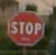stop: (6, 10, 44, 46)
